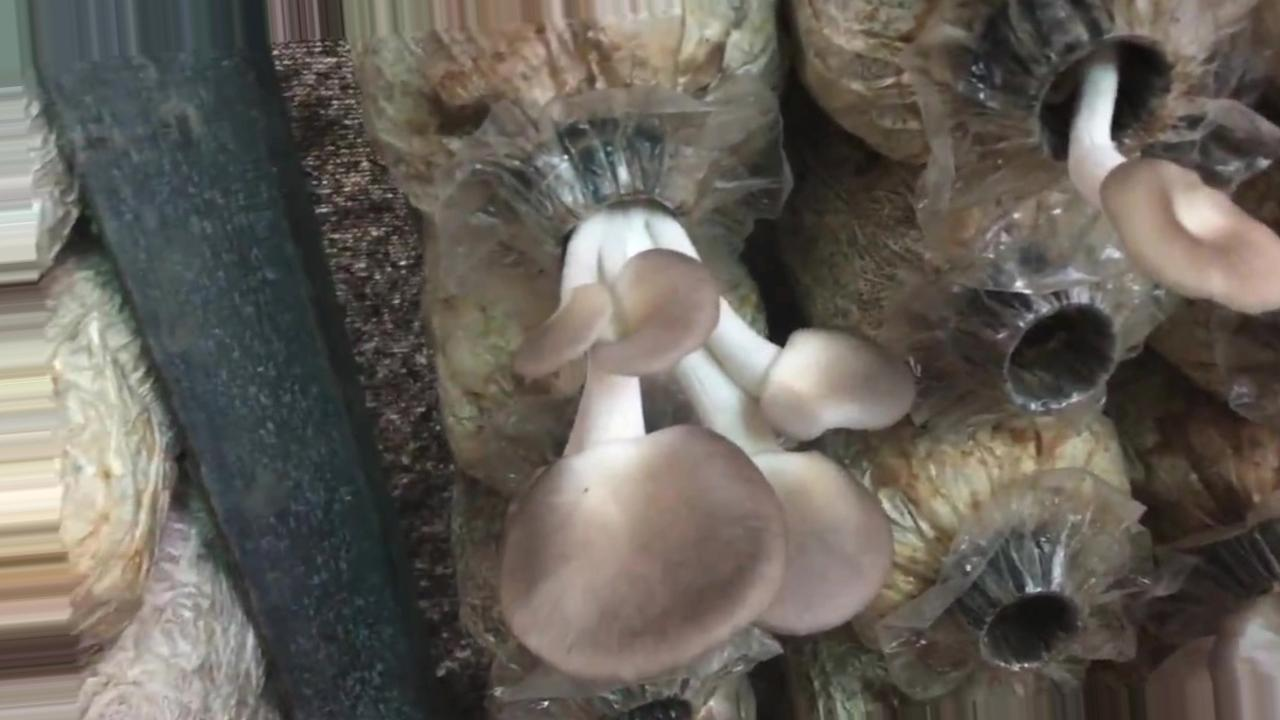nam: (507, 145, 916, 678), (1002, 2, 1280, 314)
